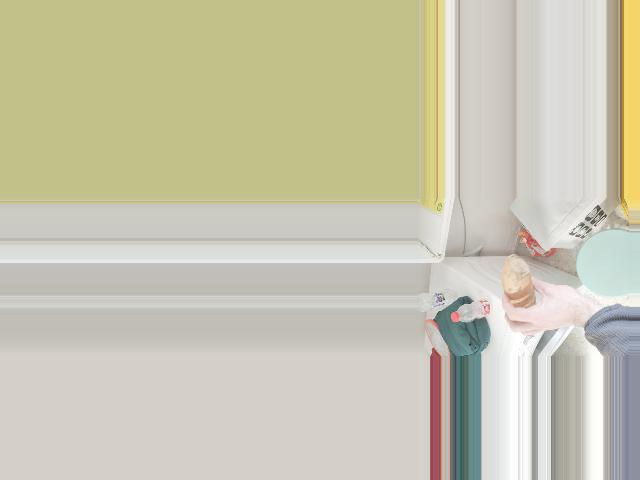sweet_potato: (499, 268, 543, 313)
